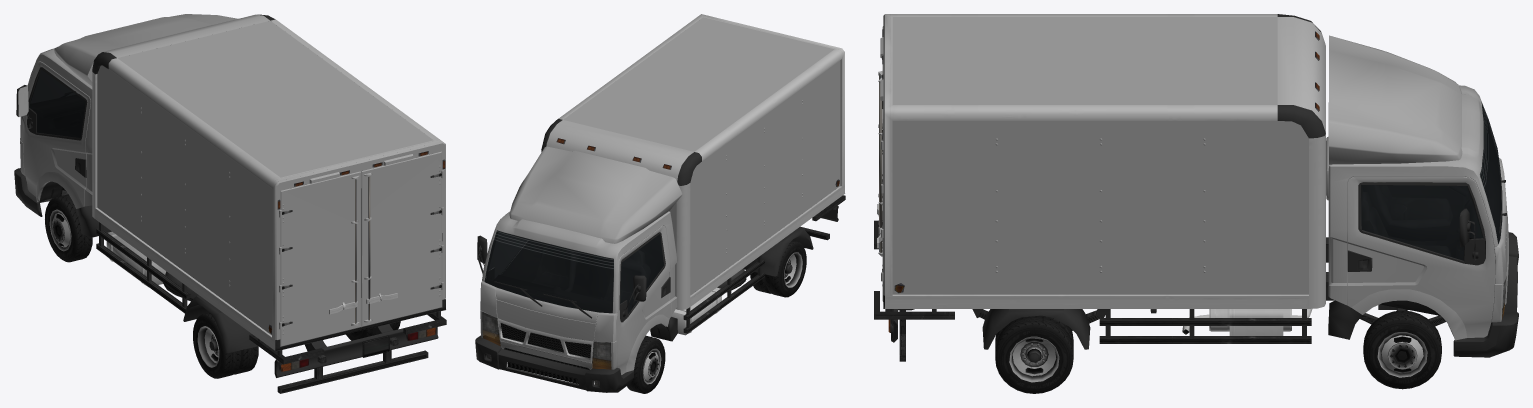
Rendered from car3_boxtruck_lct.glb.
3 views of the same model, side by side, from view 1: azimuth 30°, elevation 25°; view 2: azimuth 150°, elevation 25°; view 3: azimuth 270°, elevation 25° (orthographic). The views are drawn at different scales.
Visible parts, largest first — view 1: LCT300007_Body_LCT13_07_Bodymat_0, LCT300007_Bottom_UCB_BOTTOM_0, LCT300007_Reardoor_Right_LCT13_07_Bodymat_0, LCT300007_Reardoor_Left_LCT13_07_Bodymat_0, LCT300007_Glass_Driver_UCB_Lights_and_Glass_Transperent_0, LCT300007_Bumper_rear_UCB_BOTTOM_0, LCT300007_WheelStock_RL_RB1c_Tire_1k_0, LCT300007_WheelStock_FR_RB1c_Tire_1k_0, LCT300007_interior_UCB_Interiors_2_0, LCT300007_Reardoor_Right_Inner_UCB_BOTTOM_0, LCT300007_Reardoor_Left_Inner_UCB_BOTTOM_0, LCT300007_Windshield_UCB_Lights_and_Glass_Transperent_0 (+2 smaller); view 2: LCT300007_Body_LCT13_07_Bodymat_0, LCT300007_Bottom_UCB_BOTTOM_0, LCT300007_Windshield_UCB_Lights_and_Glass_Transperent_0, LCT300007_interior_UCB_Interiors_2_0, LCT300007_BUMPER_FRONT_UCB_BOTTOM_0, LCT300007_Glass_Driver_UCB_Lights_and_Glass_Transperent_0 (×2), LCT300007_WheelStock_RL_RB1c_Tire_1k_0, LCT300007_WheelStock_FR_RB1c_Tire_1k_0, LCT300007_Headlight_Glass_UCB_Lights_and_Glass_Transperent_0, LCT300007_Headlights_UCB_Lights_and_Glass_0, LCT300007_BUMPER_FRONT_INNER_UCB_BOTTOM_0, LCT300007_Taillights_Glass_UCB_Lights_and_Glass_Transperent_; view 3: LCT300007_Body_LCT13_07_Bodymat_0, LCT300007_Bottom_UCB_BOTTOM_0, LCT300007_interior_UCB_Interiors_2_0, LCT300007_Glass_Driver_UCB_Lights_and_Glass_Transperent_0, LCT300007_WheelStock_RR_RB1c_Tire_1k_0, LCT300007_WheelStock_FR_RB1c_Tire_1k_0, LCT300007_BUMPER_FRONT_UCB_BOTTOM_0, LCT300007_Windshield_UCB_Lights_and_Glass_Transperent_0, LCT300007_Reardoor_Right_Inner_UCB_BOTTOM_0, LCT300007_Suspension_UCB_BOTTOM_0.
Boxes of the visible parts, x1=… form: LCT300007_Body_LCT13_07_Bodymat_0: x1=20, y1=14, x2=445, y2=339; LCT300007_Bottom_UCB_BOTTOM_0: x1=16, y1=14, x2=446, y2=393; LCT300007_Reardoor_Right_LCT13_07_Bodymat_0: x1=361, y1=151, x2=442, y2=327; LCT300007_Reardoor_Left_LCT13_07_Bodymat_0: x1=280, y1=171, x2=361, y2=346; LCT300007_Glass_Driver_UCB_Lights_and_Glass_Transperent_0: x1=29, y1=70, x2=85, y2=137; LCT300007_Bumper_rear_UCB_BOTTOM_0: x1=274, y1=327, x2=438, y2=377; LCT300007_WheelStock_RL_RB1c_Tire_1k_0: x1=193, y1=312, x2=258, y2=378; LCT300007_WheelStock_FR_RB1c_Tire_1k_0: x1=45, y1=194, x2=92, y2=262; LCT300007_interior_UCB_Interiors_2_0: x1=29, y1=94, x2=86, y2=140; LCT300007_Reardoor_Right_Inner_UCB_BOTTOM_0: x1=364, y1=172, x2=441, y2=322; LCT300007_Reardoor_Left_Inner_UCB_BOTTOM_0: x1=282, y1=175, x2=361, y2=326; LCT300007_Windshield_UCB_Lights_and_Glass_Transperent_0: x1=31, y1=70, x2=78, y2=102; LCT300007_Body_LCT13_07_Bodymat_0: x1=480, y1=17, x2=840, y2=374; LCT300007_Bottom_UCB_BOTTOM_0: x1=477, y1=14, x2=845, y2=369; LCT300007_Windshield_UCB_Lights_and_Glass_Transperent_0: x1=484, y1=230, x2=613, y2=313; LCT300007_interior_UCB_Interiors_2_0: x1=487, y1=232, x2=664, y2=348; LCT300007_BUMPER_FRONT_UCB_BOTTOM_0: x1=475, y1=335, x2=633, y2=392; LCT300007_Glass_Driver_UCB_Lights_and_Glass_Transperent_0 (×2): x1=489, y1=233, x2=664, y2=314; LCT300007_WheelStock_RL_RB1c_Tire_1k_0: x1=750, y1=240, x2=806, y2=297; LCT300007_WheelStock_FR_RB1c_Tire_1k_0: x1=627, y1=335, x2=665, y2=393; LCT300007_Headlight_Glass_UCB_Lights_and_Glass_Transperent_0: x1=482, y1=312, x2=611, y2=360; LCT300007_Headlights_UCB_Lights_and_Glass_0: x1=483, y1=312, x2=611, y2=360; LCT300007_BUMPER_FRONT_INNER_UCB_BOTTOM_0: x1=486, y1=354, x2=599, y2=385; LCT300007_Taillights_Glass_UCB_Lights_and_Glass_Transperent_: x1=482, y1=330, x2=611, y2=369; LCT300007_Body_LCT13_07_Bodymat_0: x1=880, y1=14, x2=1507, y2=340; LCT300007_Bottom_UCB_BOTTOM_0: x1=874, y1=14, x2=1508, y2=361; LCT300007_interior_UCB_Interiors_2_0: x1=1361, y1=107, x2=1500, y2=259; LCT300007_Glass_Driver_UCB_Lights_and_Glass_Transperent_0: x1=1361, y1=185, x2=1482, y2=260; LCT300007_WheelStock_RR_RB1c_Tire_1k_0: x1=995, y1=315, x2=1073, y2=393; LCT300007_WheelStock_FR_RB1c_Tire_1k_0: x1=1363, y1=310, x2=1441, y2=389; LCT300007_BUMPER_FRONT_UCB_BOTTOM_0: x1=1453, y1=232, x2=1518, y2=357; LCT300007_Windshield_UCB_Lights_and_Glass_Transperent_0: x1=1480, y1=102, x2=1502, y2=243; LCT300007_Reardoor_Right_Inner_UCB_BOTTOM_0: x1=877, y1=77, x2=882, y2=272; LCT300007_Suspension_UCB_BOTTOM_0: x1=972, y1=308, x2=1446, y2=330.
Size of the model in its own units: 2.9 by 3.39 by 7.
Materials: 6 (5 with a texture image).
